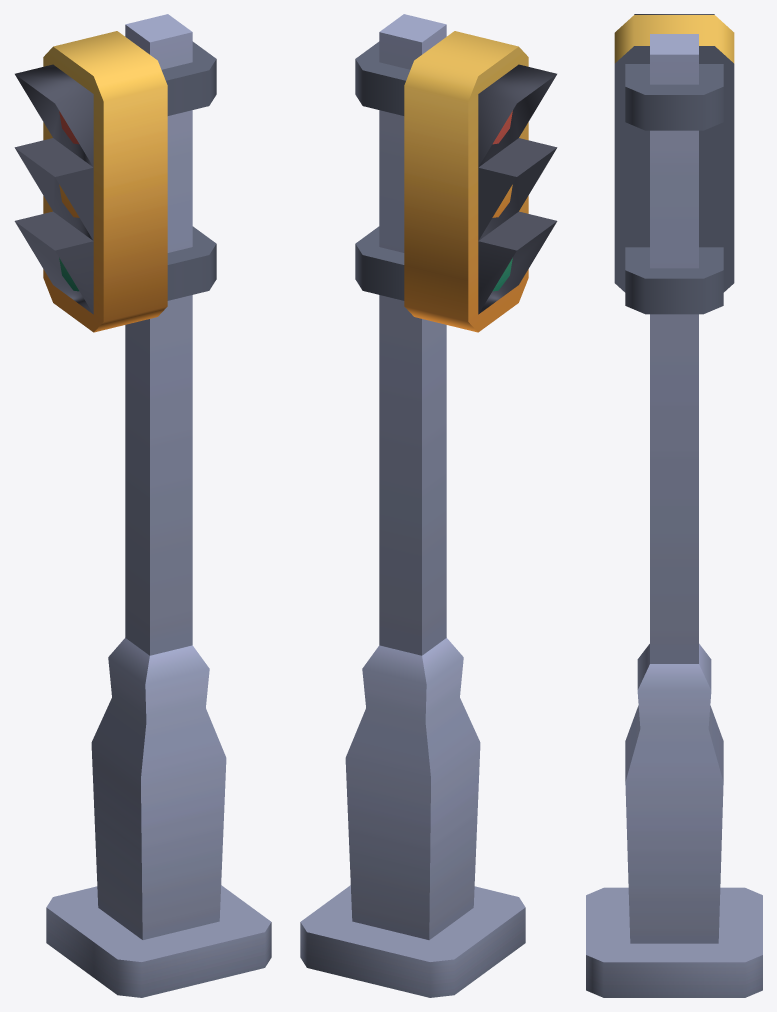
The model's file is traffic-light.glb.
The picture shows the model from 3 angles, left to right: view 1: azimuth 30°, elevation 25°; view 2: azimuth 150°, elevation 25°; view 3: azimuth 270°, elevation 25°; orthographic projection.
Visible parts, largest first — view 1: traffic-light; view 2: traffic-light; view 3: traffic-light.
Part boxes in pixels (box(x1,y1,x2,y2)): traffic-light: box(14, 14, 271, 997); traffic-light: box(300, 14, 557, 997); traffic-light: box(586, 14, 762, 997).
Bounding box in the file's own units: 0.1176 × 0.515 × 0.09.
Materials: 1 (1 with a texture image).
